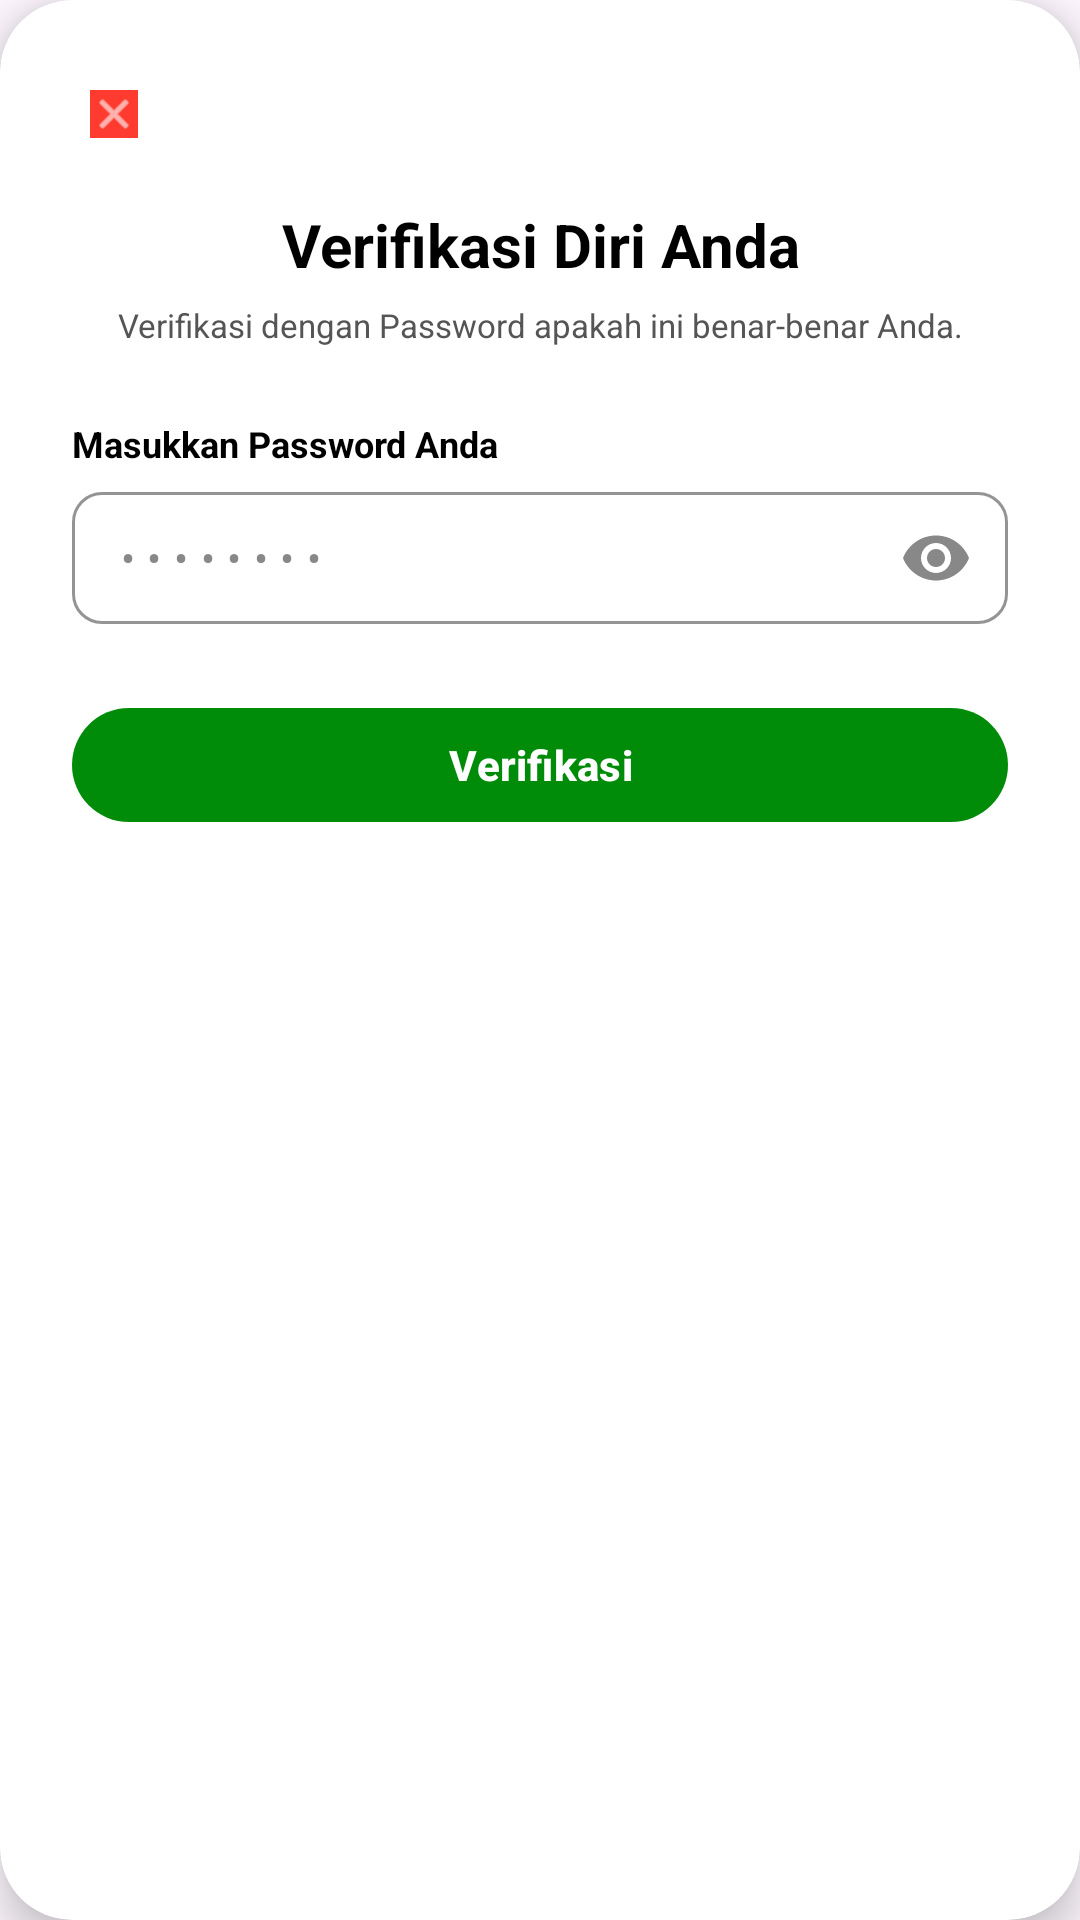

Screen size 1080 × 1920. Icon name, then its center in pixels as (x,y):
close clear cancel: (114,114)
